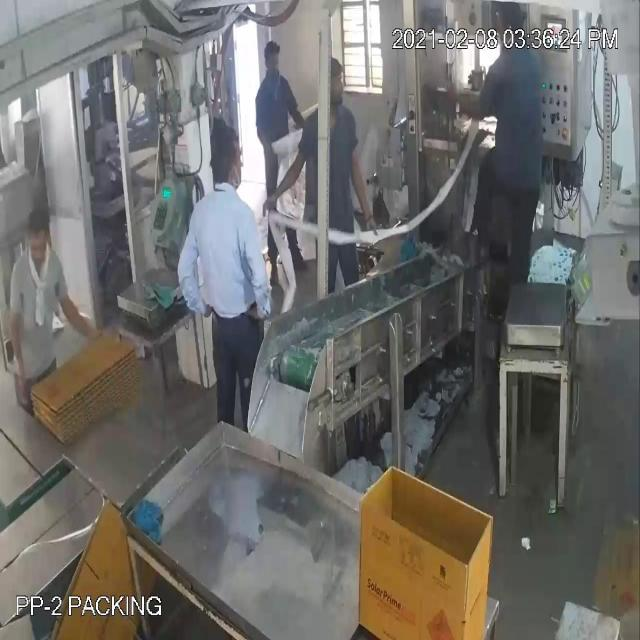No_Gloves: (24, 66, 466, 350)
